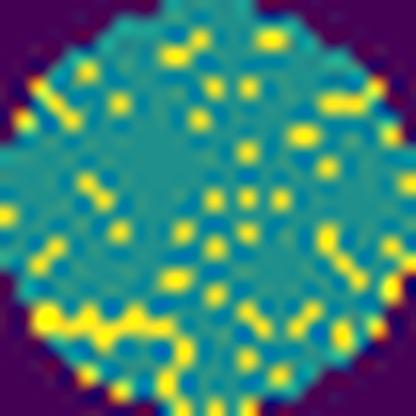Scratch: (26, 302, 178, 355)
